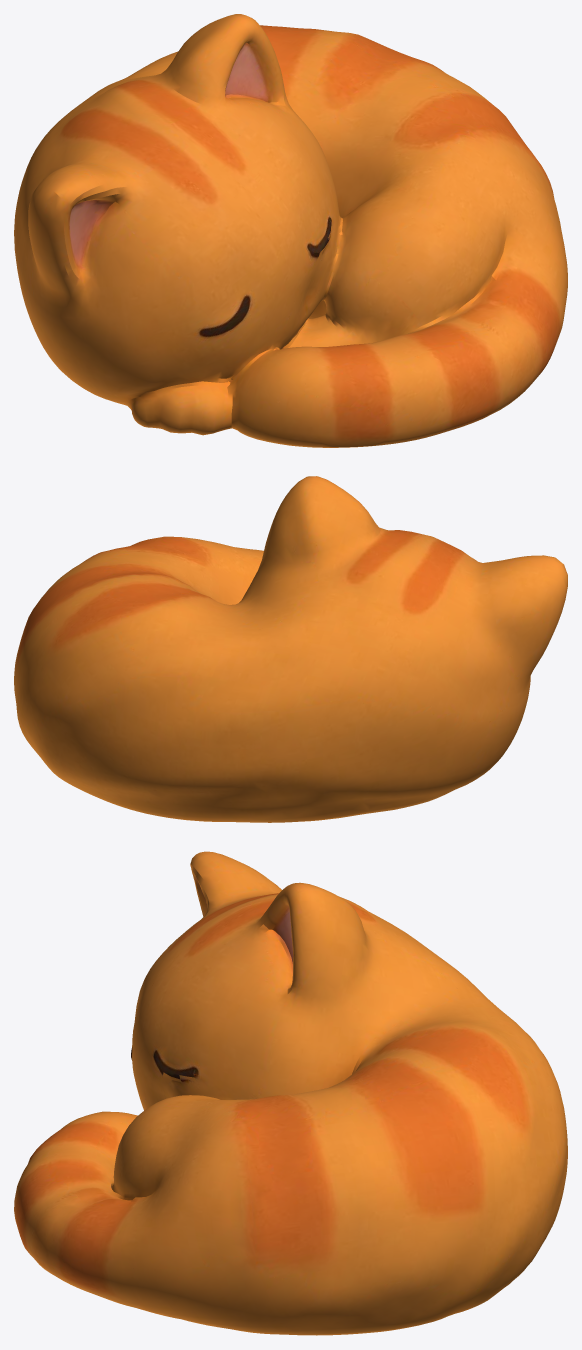
Rendered from Meshy_AI_model.glb.
3 renders of one model, top to bottom at view 1: azimuth 30°, elevation 25°; view 2: azimuth 150°, elevation 25°; view 3: azimuth 270°, elevation 25°, orthographic. The views are drawn at different scales.
Visible parts, largest first — view 1: Mesh0; view 2: Mesh0; view 3: Mesh0.
Part boxes in pixels (box(x1,y1,x2,y2)): Mesh0: box(14, 14, 567, 447); Mesh0: box(14, 476, 567, 822); Mesh0: box(14, 851, 567, 1335).
Bounding box in the file's own units: 1.9 × 1.11 × 1.71.
1 material, 1 textured.
